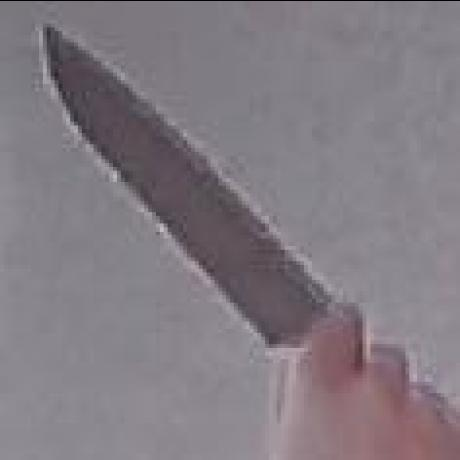1: (265, 306, 460, 460)
weapon: (36, 21, 336, 368)
